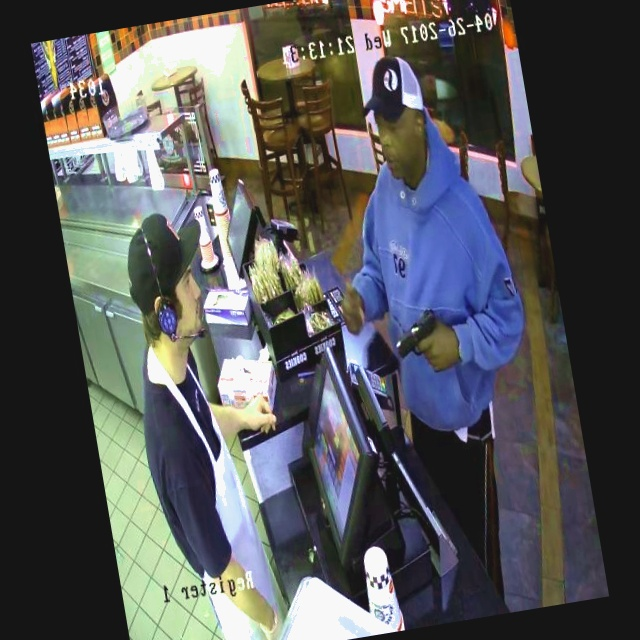gun: (383, 294, 460, 376)
